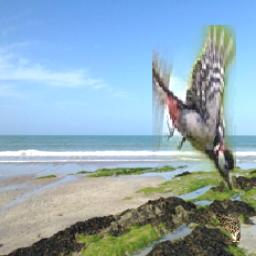Sparrow: (215, 214, 241, 243)
Woodpecker: (152, 26, 236, 191)
